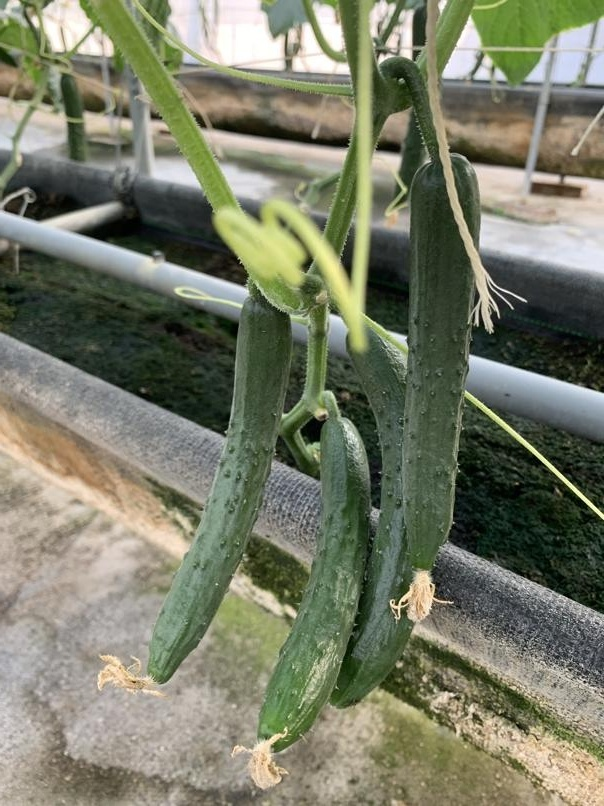mature: (115, 281, 296, 693), (226, 419, 376, 767), (385, 148, 486, 614), (319, 323, 430, 707)
